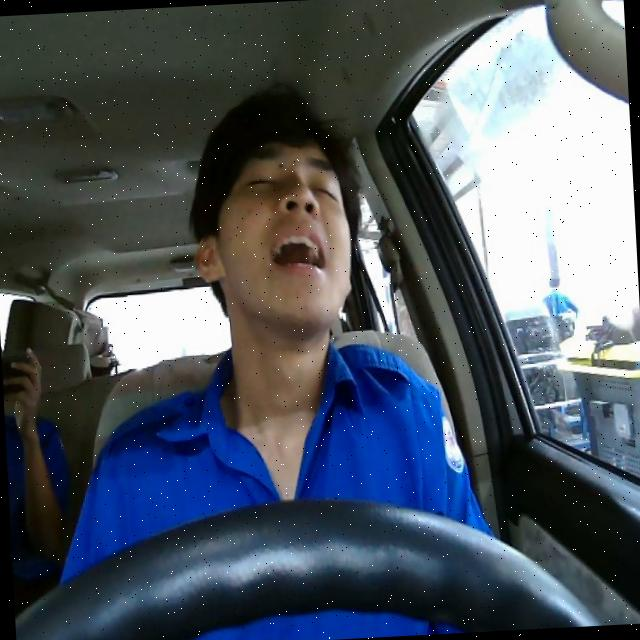yarning: (189, 136, 358, 338)
